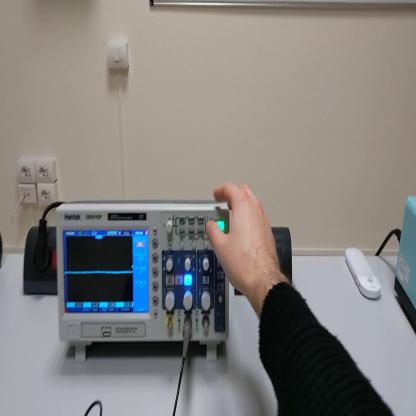hand: (207, 180, 282, 298)
oscilloscope: (59, 198, 232, 359)
socket: (22, 220, 60, 301)
welder station: (393, 192, 416, 330)
